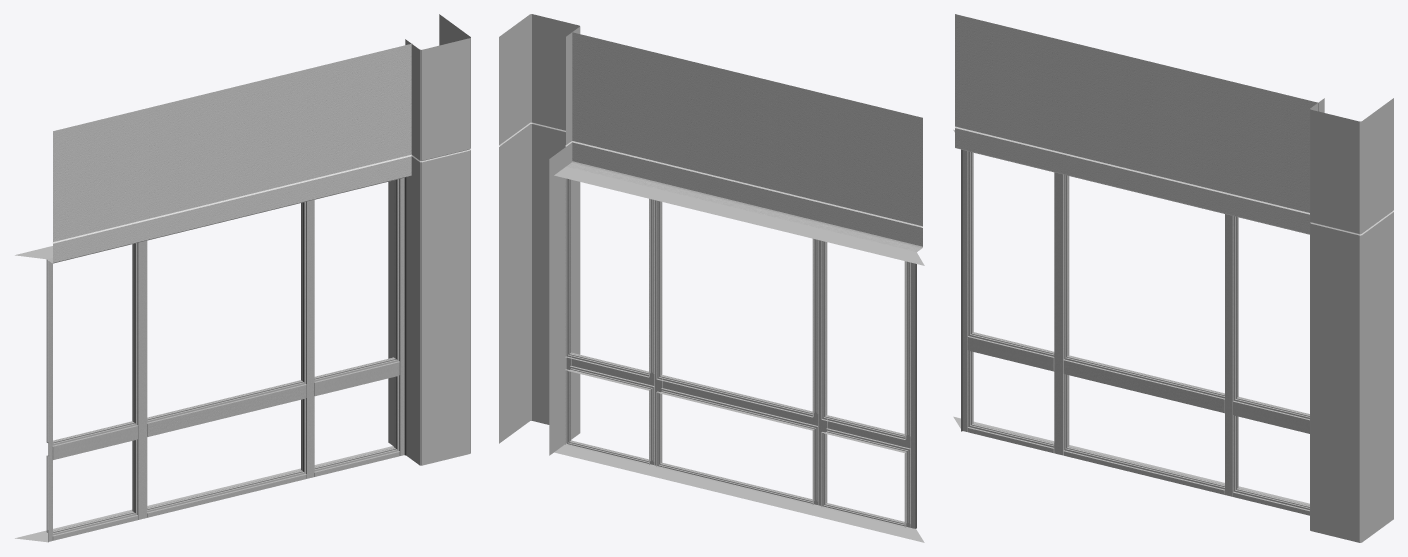
File: Office_Windows_A.fbx
3 views of the same model, side by side, from view 1: azimuth 30°, elevation 25°; view 2: azimuth 150°, elevation 25°; view 3: azimuth 330°, elevation 25° (orthographic). The views are drawn at different scales.
Visible parts, largest first — view 1: Office_Windows_A; view 2: Office_Windows_A; view 3: Office_Windows_A.
Boxes of the visible parts, bbox=[...] form: Office_Windows_A: bbox=[15, 14, 470, 542]; Office_Windows_A: bbox=[499, 14, 924, 542]; Office_Windows_A: bbox=[953, 14, 1393, 542].
Bounding box in the file's own units: 421 × 389 × 54.88.
